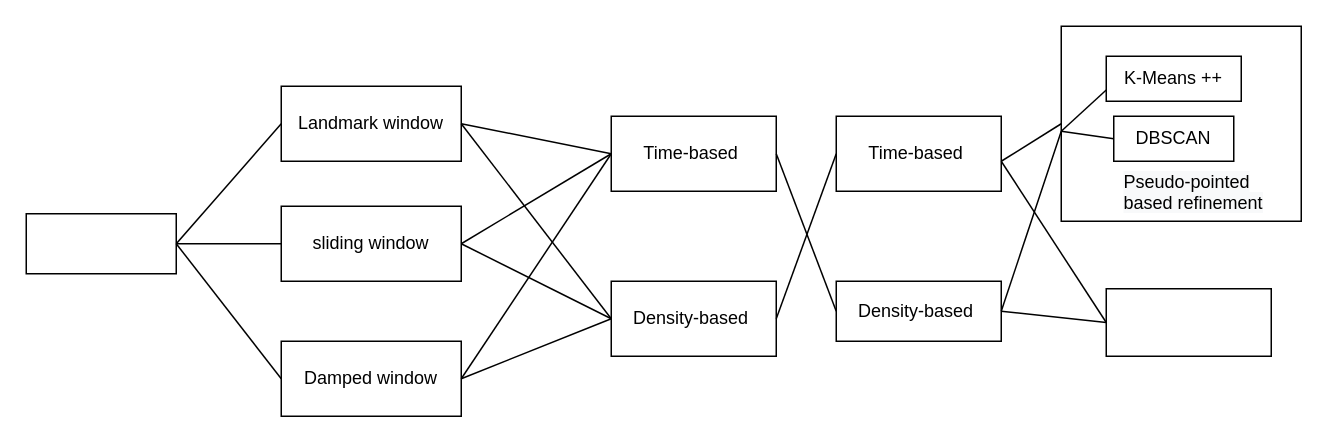
This 1328x443 diagram has some shape labels left out. The shapes that lost their labels are listed below. From the top down, each one's centre as x and y in pixels, then its label:
the point at 100,243: Micro cluster
the point at 1188,321: Connected -based refinement
